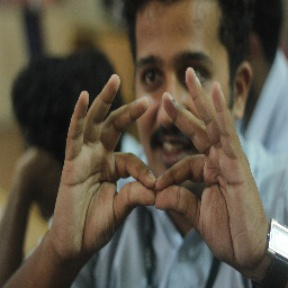B: (97, 139, 216, 227)
